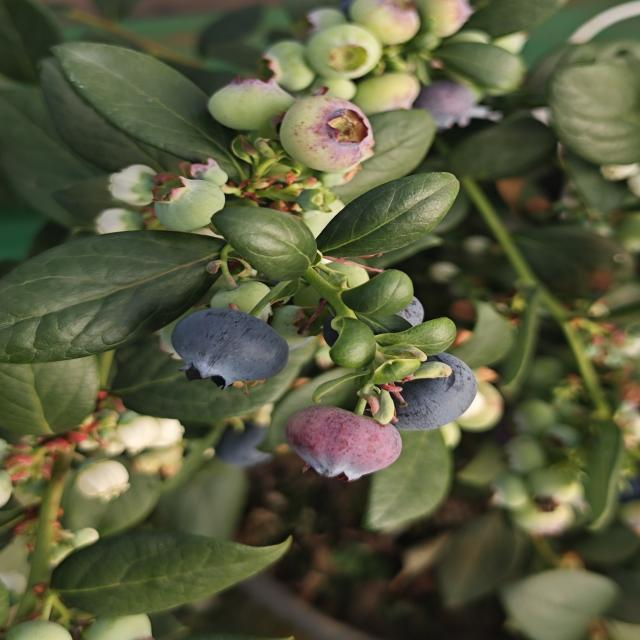ripe: (167, 306, 292, 394), (319, 283, 440, 351), (410, 350, 478, 436), (201, 416, 293, 470)
